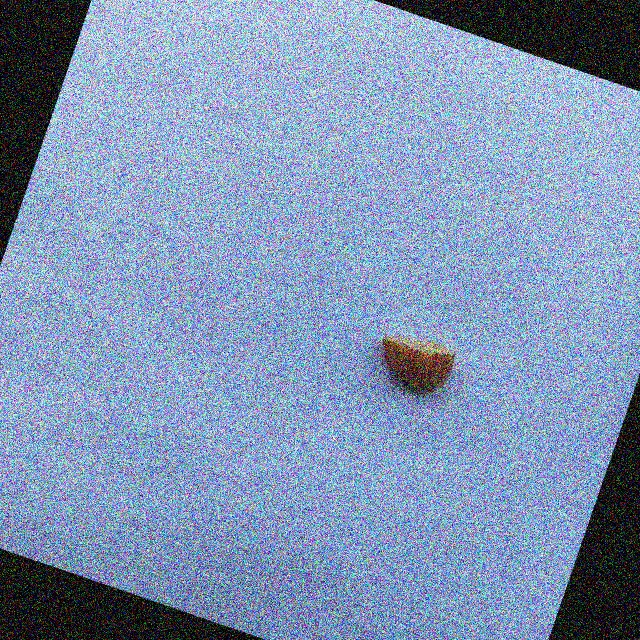grade4: (360, 319, 467, 408)
